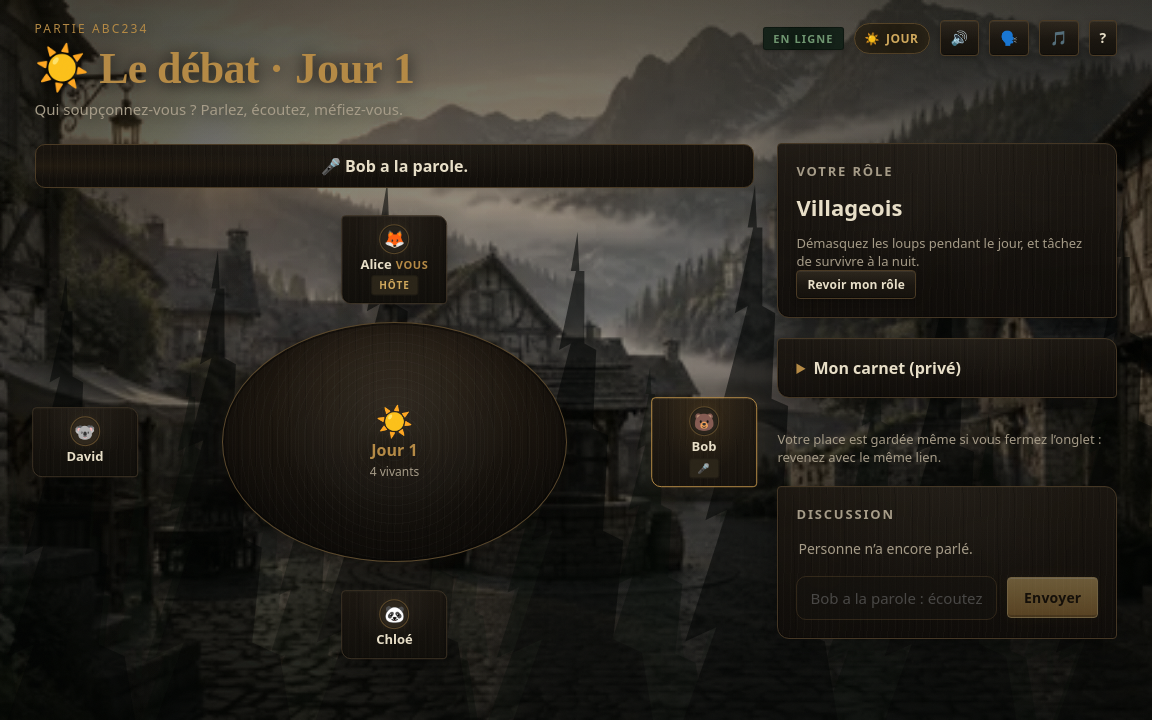
Test case: Game › ouvre l’aide de jeu depuis la table
Step 1. Click the button named "Règles du jeu" → (1103, 38), box [1089,20,1118,56]
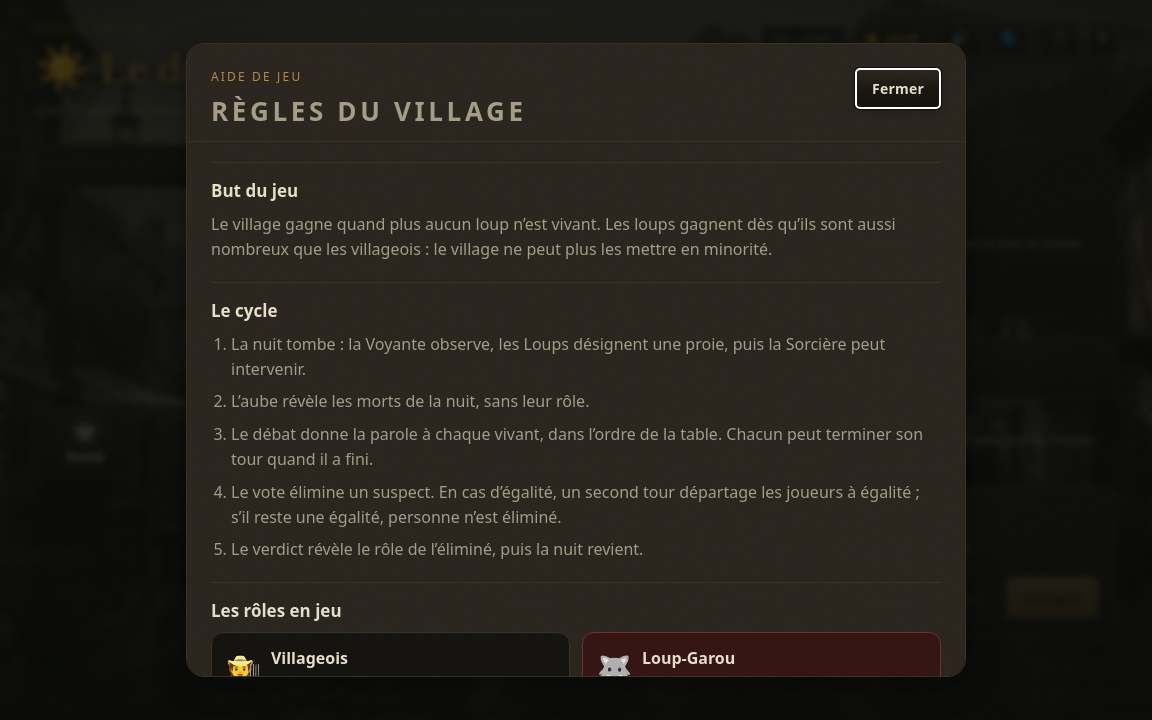
Check: the dialog "Règles du village" is shown, box [186,43,966,677]
Step 2. Click the button "Fermer" → (898, 89), box [855,68,941,109]
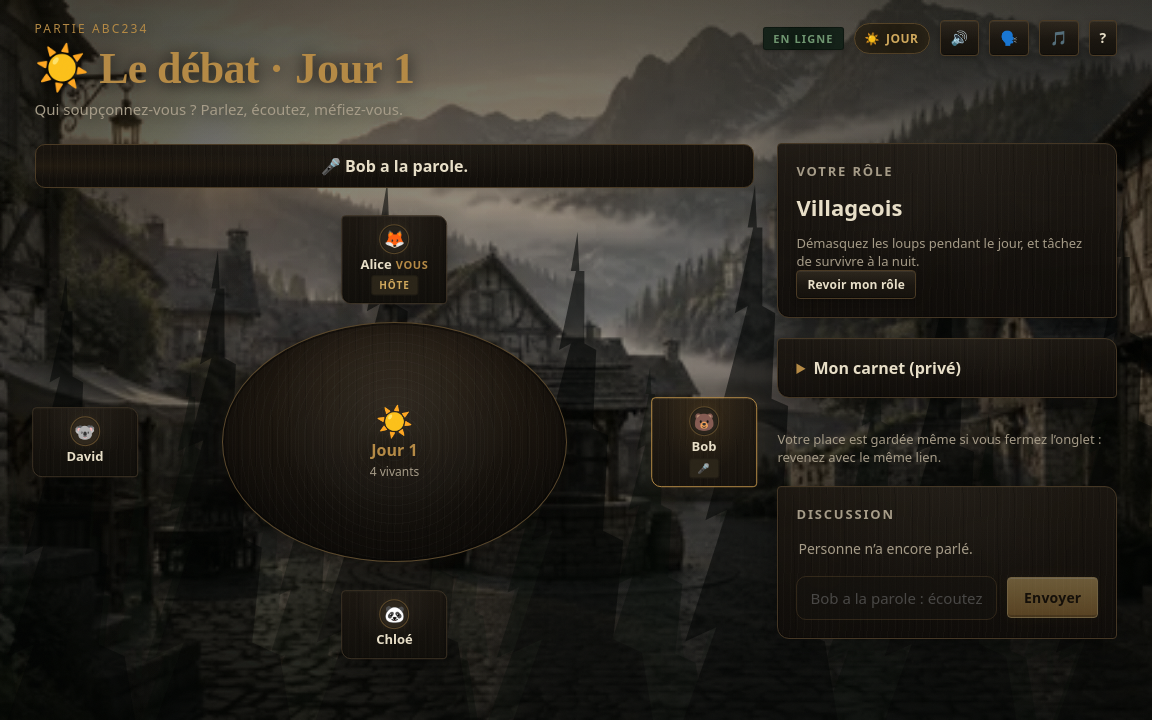
Check: the dialog is gone
